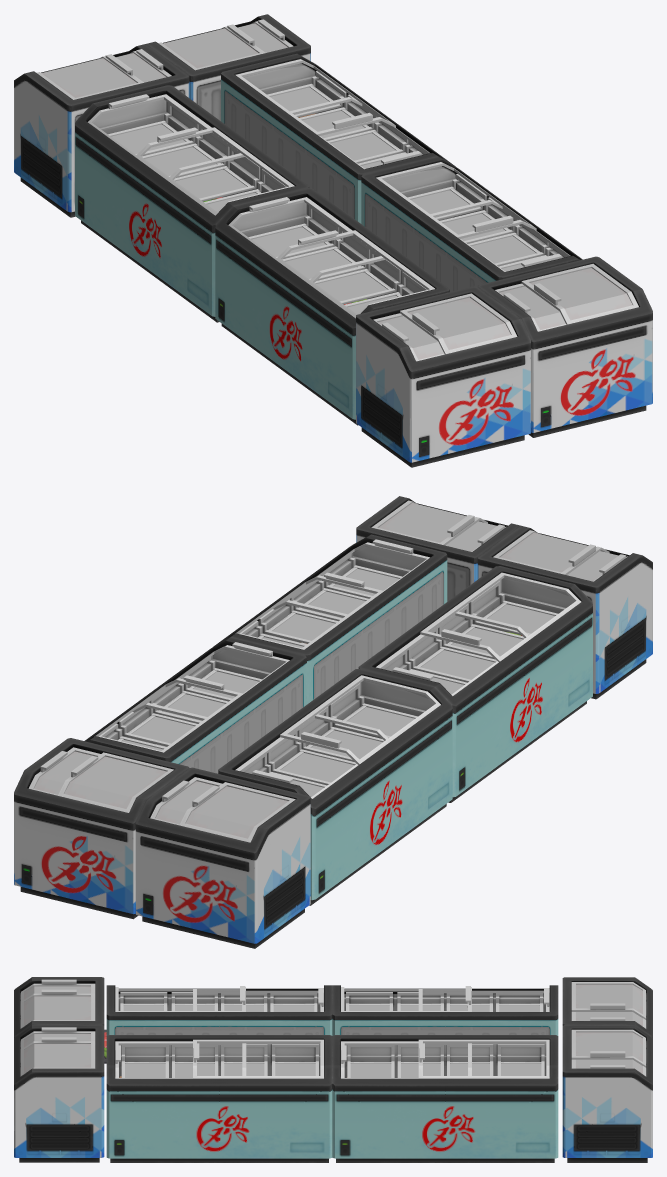
File: Market_02.obj
3 renders of one model, top to bottom at view 1: azimuth 30°, elevation 25°; view 2: azimuth 150°, elevation 25°; view 3: azimuth 270°, elevation 25°, orthographic. The views are drawn at different scales.
Bounding box in the file's own units: 2.01 × 0.9327 × 5.66.
Materials: 48 (48 with a texture image).
